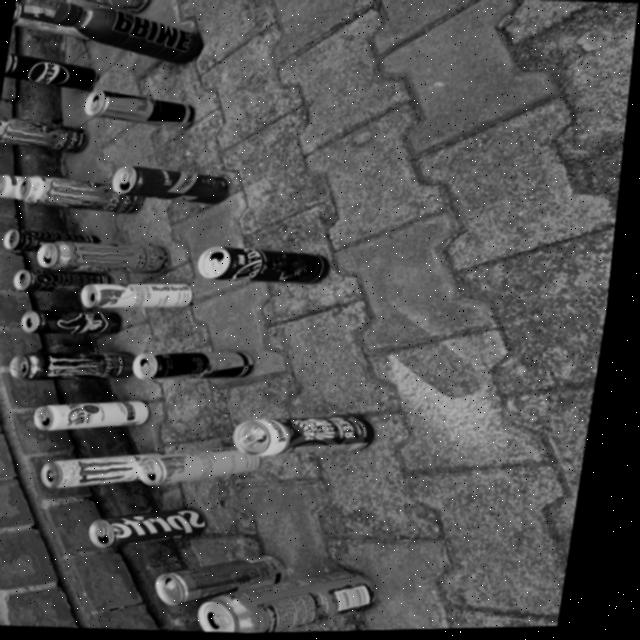Coca Cola - Marvel: (207, 243, 340, 288)
Coca Cola Plus: (47, 396, 164, 438)
Coolberg: (249, 416, 387, 461)
Monster Aussie Lemonade: (26, 172, 130, 215), (0, 110, 95, 156)
Monster LH44: (14, 344, 147, 385)
Monster Mango Loco: (219, 566, 388, 635), (42, 236, 184, 276), (20, 0, 152, 13)
Nescafe Classic Iced Latte: (11, 0, 55, 33)
Pepsi: (4, 52, 102, 94)
Prime - Shitass: (53, 0, 208, 67)
Redbul: (83, 88, 204, 131), (182, 554, 287, 600), (148, 348, 260, 384)
Redbull Summer Edition: (92, 279, 202, 313)
Redbull Yellow Edition: (148, 446, 268, 482)
Schweppes: (120, 162, 242, 211)
Sprite: (103, 501, 219, 559)
Thums Up: (25, 304, 134, 344)
White Monster: (47, 452, 150, 494)
